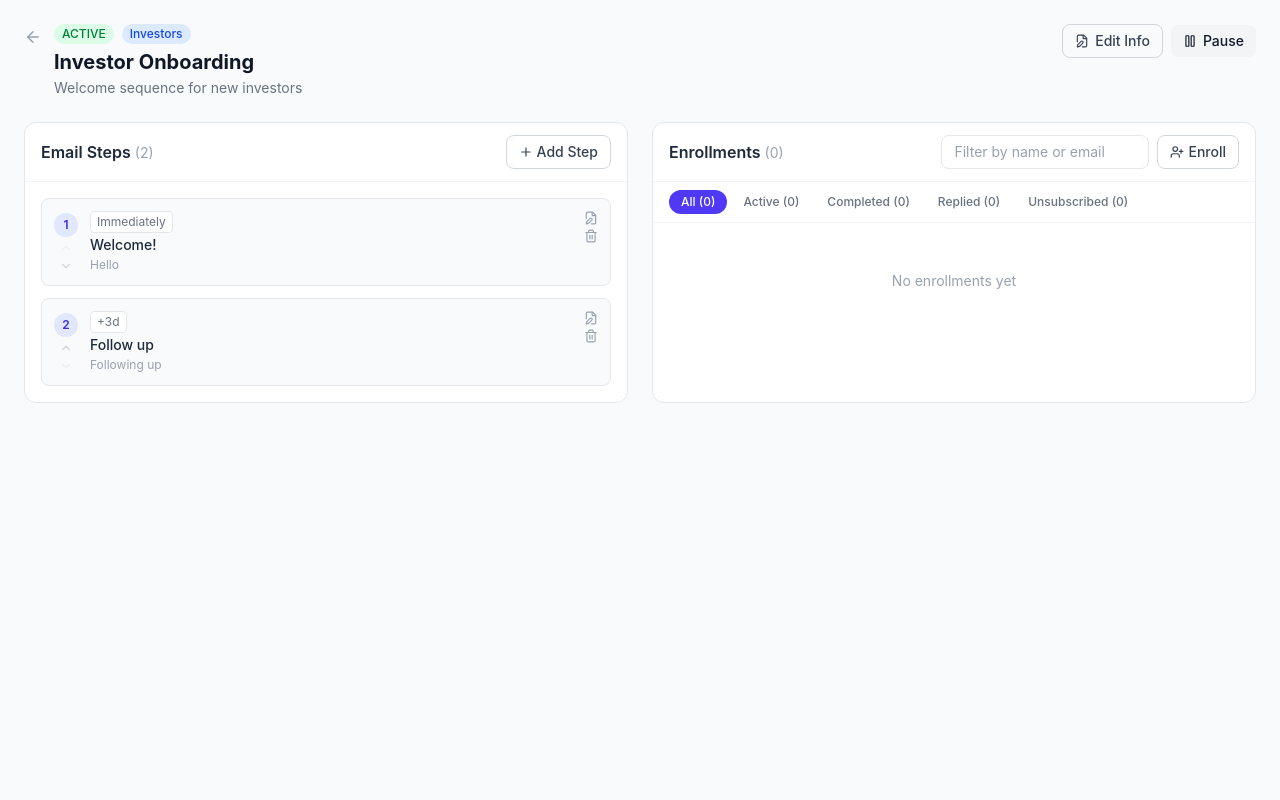
Test: SequenceDetailPage › enroll modal opens when clicking Enroll button
What coordinates should you click on to do the following:
click the button "Enroll"
I would click on:
 (1198, 152)
Its box is [1158,135,1239,169].
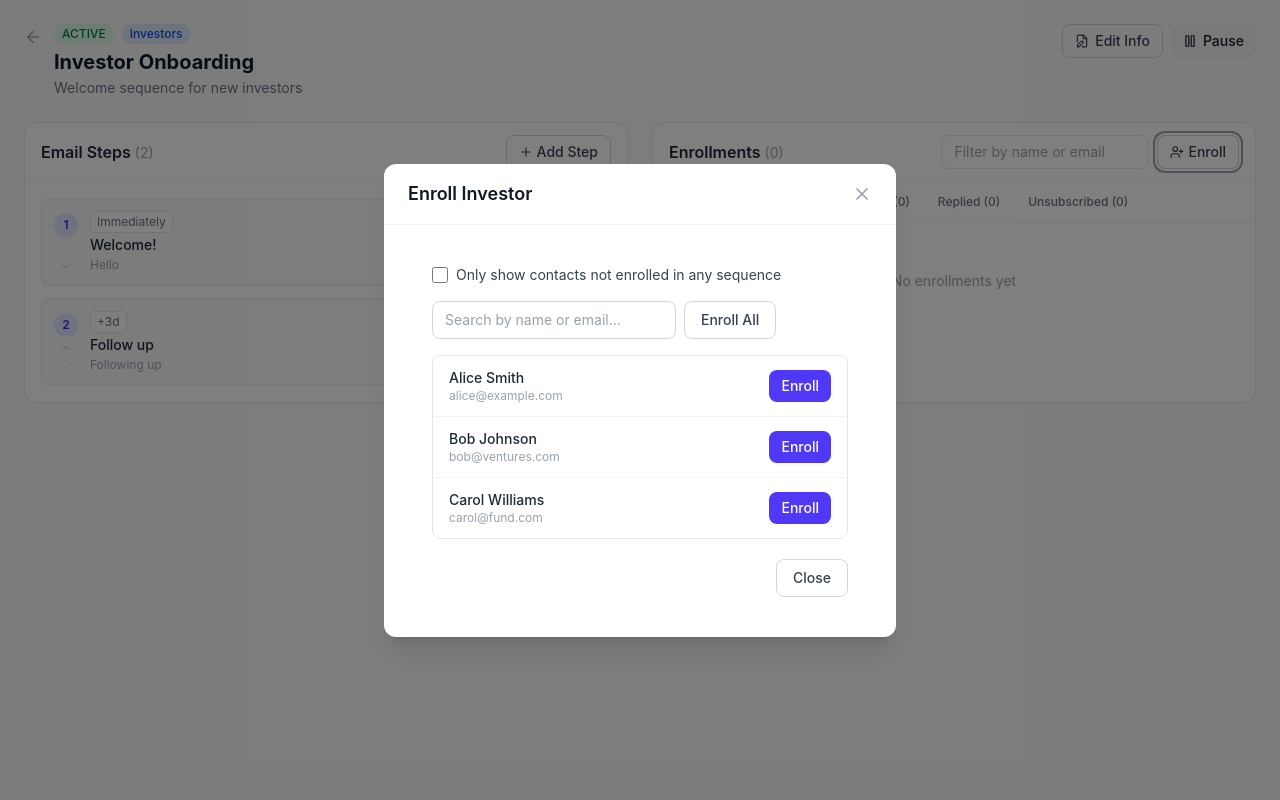
Expected: the heading "Enroll Investor" is shown, [408,180,532,208]
